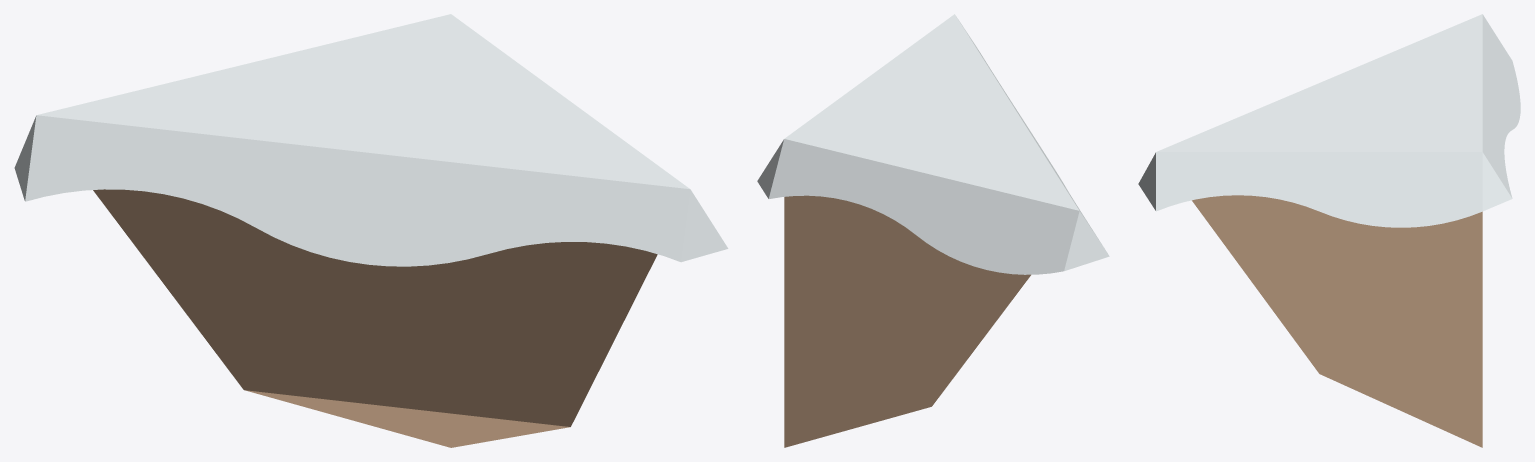
3 renders of one model, left to right at view 1: azimuth 30°, elevation 25°; view 2: azimuth 150°, elevation 25°; view 3: azimuth 270°, elevation 25°, orthographic. The views are drawn at different scales.
Parts seen in each view (by area): view 1: blockSnowCliffCorner; view 2: blockSnowCliffCorner; view 3: blockSnowCliffCorner.
Part boxes in pixels (box(x1,y1,x2,y2)): blockSnowCliffCorner: box(14, 14, 728, 447); blockSnowCliffCorner: box(757, 14, 1109, 447); blockSnowCliffCorner: box(1138, 14, 1520, 447).
Size of the model in its own units: 1.18 by 1 by 1.17.
